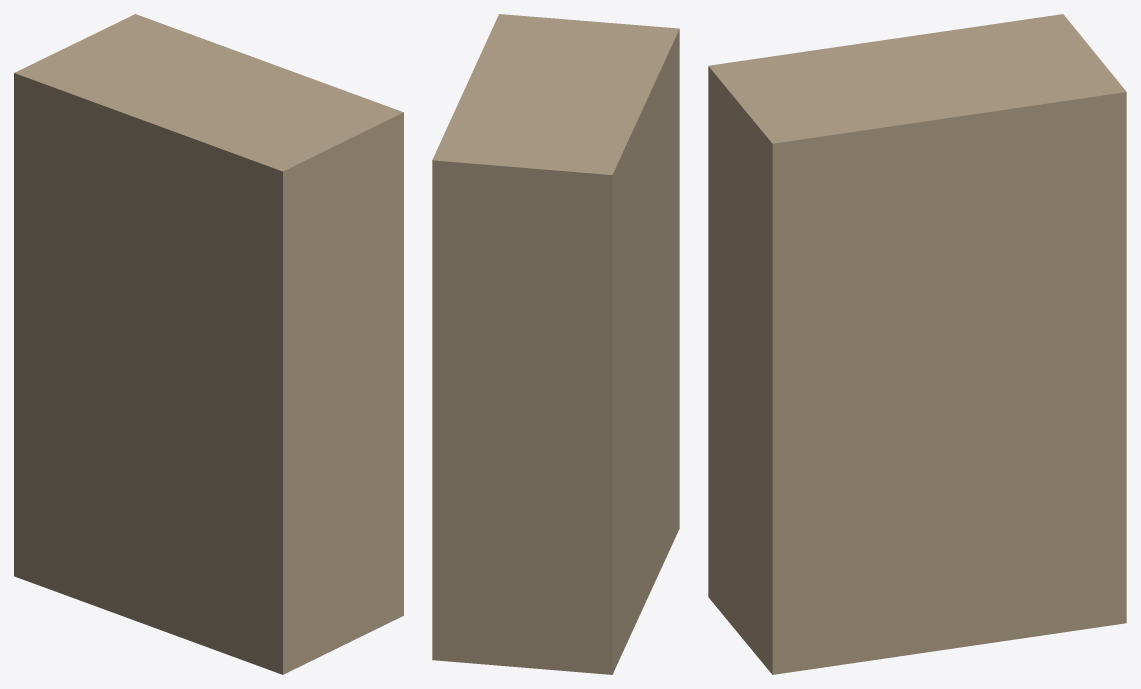
The model's file is bld_107610432.dae.
3 views of the same model, side by side, from view 1: azimuth 30°, elevation 25°; view 2: azimuth 150°, elevation 25°; view 3: azimuth 270°, elevation 25° (orthographic). The views are drawn at different scales.
Parts seen in each view (by area): view 1: bld_107610432; view 2: bld_107610432; view 3: bld_107610432.
Part boxes in pixels (bbox=[...]): bld_107610432: bbox=[14, 14, 403, 674]; bld_107610432: bbox=[432, 14, 679, 674]; bld_107610432: bbox=[708, 14, 1126, 674].
Bounding box in the file's own units: 4.19 × 5.71 × 8.
